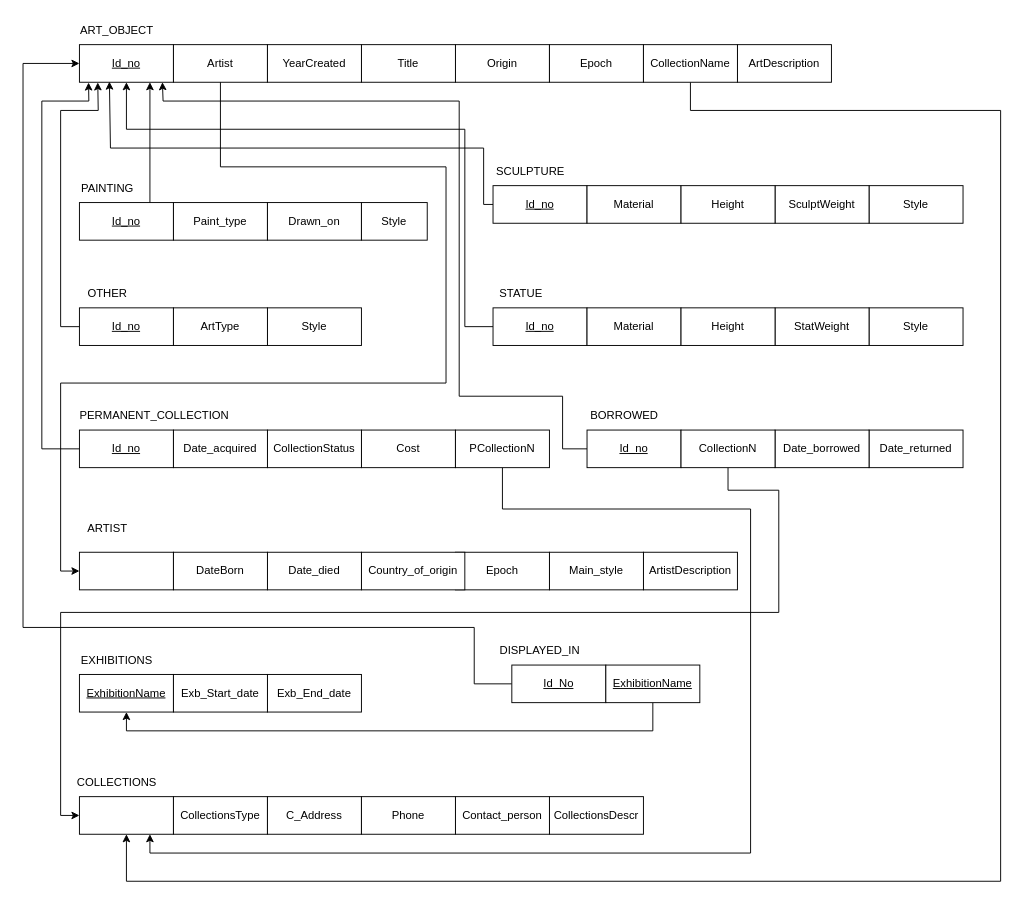
Image size: 1025x905. Some labels were removed from this diagram. The centre of each missing label's shape, as x and y in pixels:
ArtistName: (x=125, y=570)
CollectionsName: (x=125, y=815)
